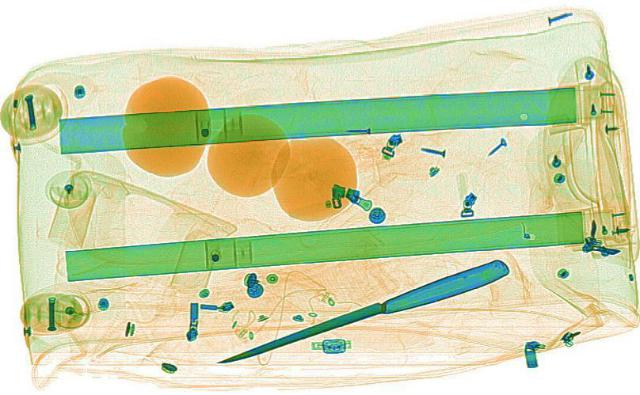Knife: (207, 257, 516, 369)
